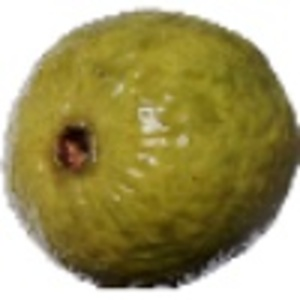goiaba: (4, 5, 295, 295)
